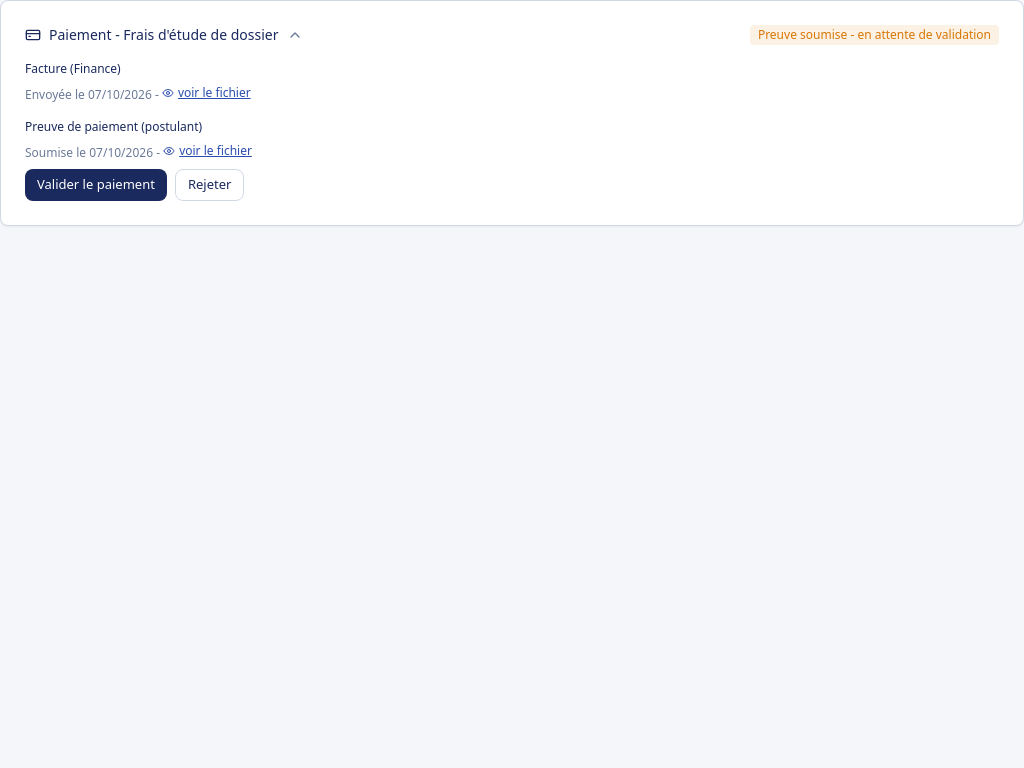
Test: M5 payment card - final rejection of the dossier › asks first, sends nothing, and starts on Retour
Click the button "Rejeter" at (210, 185), box 175,169 -> 244,201
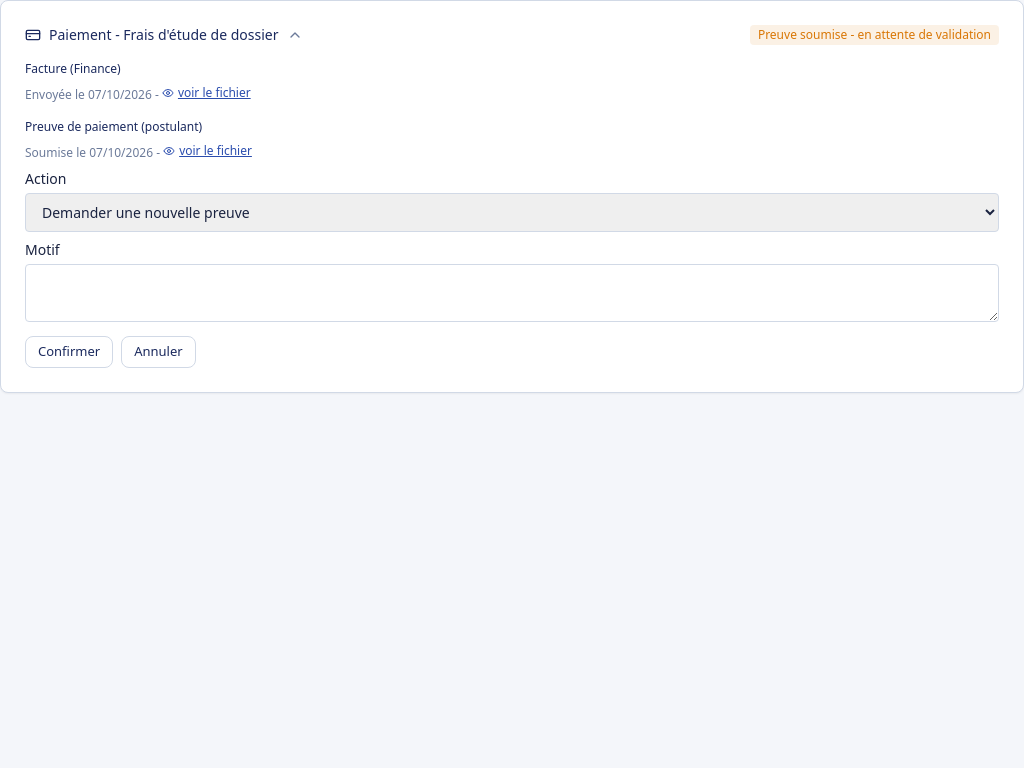
Select "Rejeter le dossier (annulation définitive)" in the dropdown labelled "Action" at (512, 212), box 25,193 -> 999,232
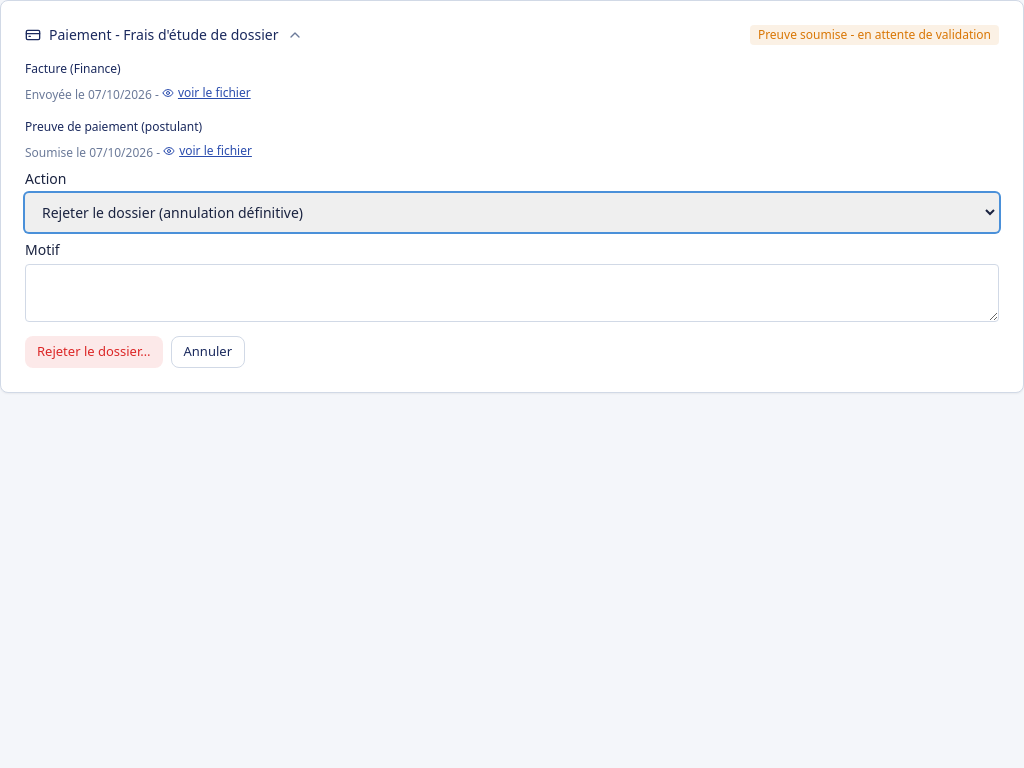
Type "Quittance falsifiée : la référence bancaire n'existe pas." into the text box labelled "Motif" at (512, 293), box 25,264 -> 999,322
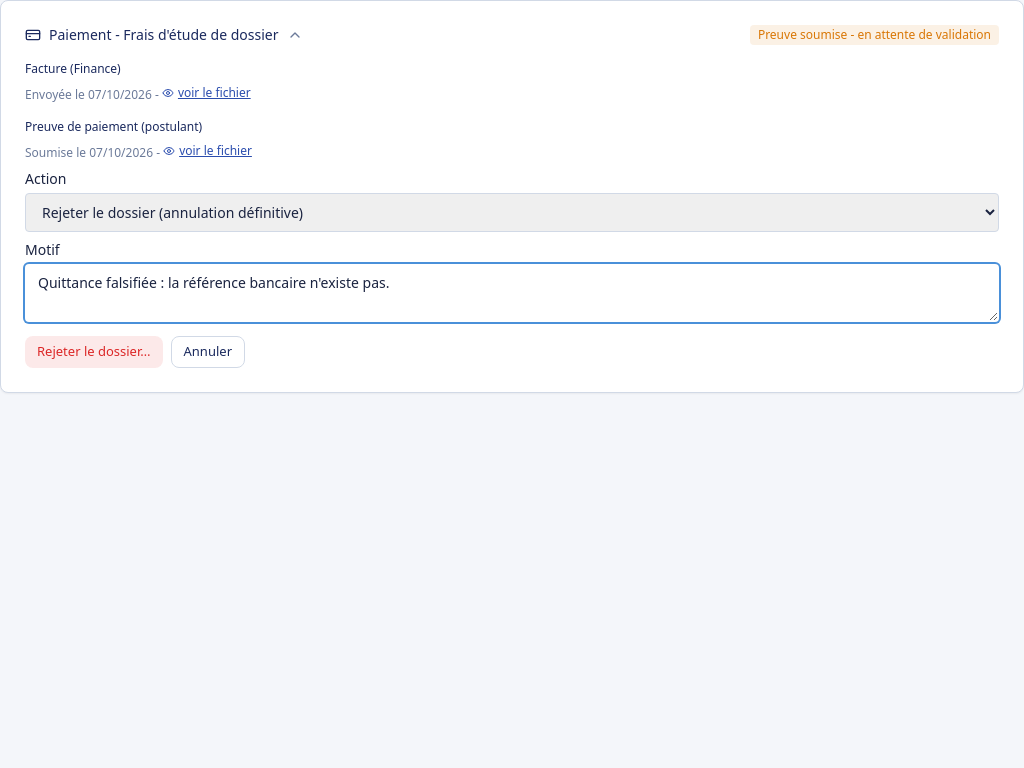
Click the button "Rejeter le dossier…" at (94, 352), box 25,336 -> 162,368
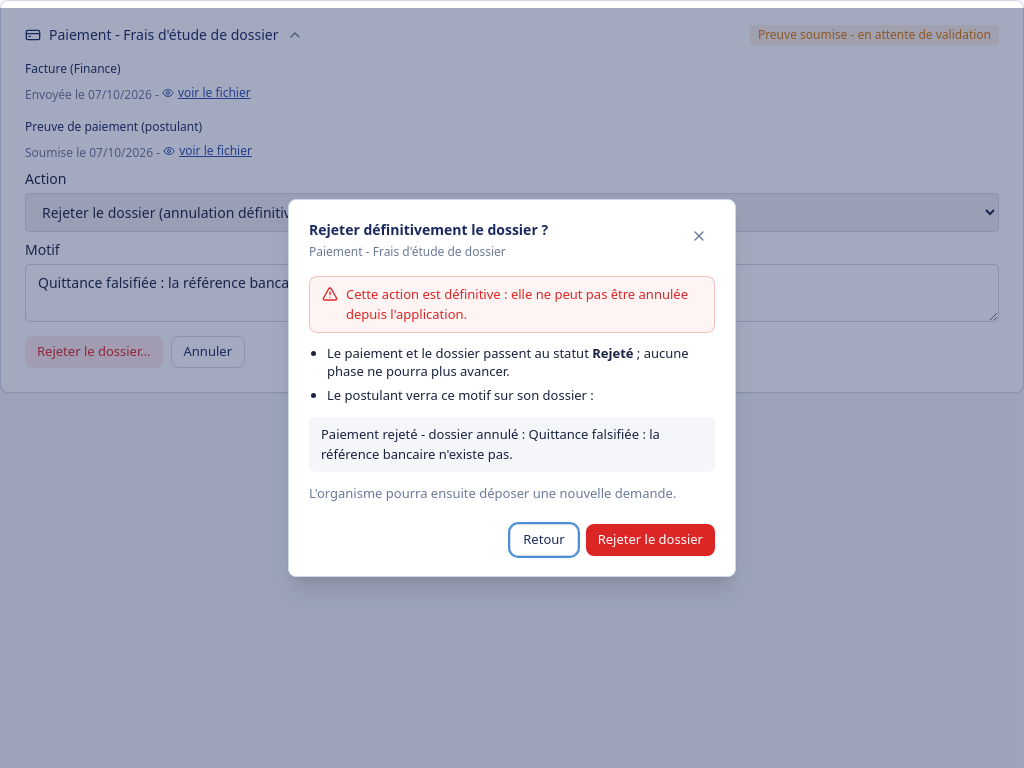
Now the text "Paiement - Frais d'étude de dossier" is shown, box 309,243 -> 506,260
